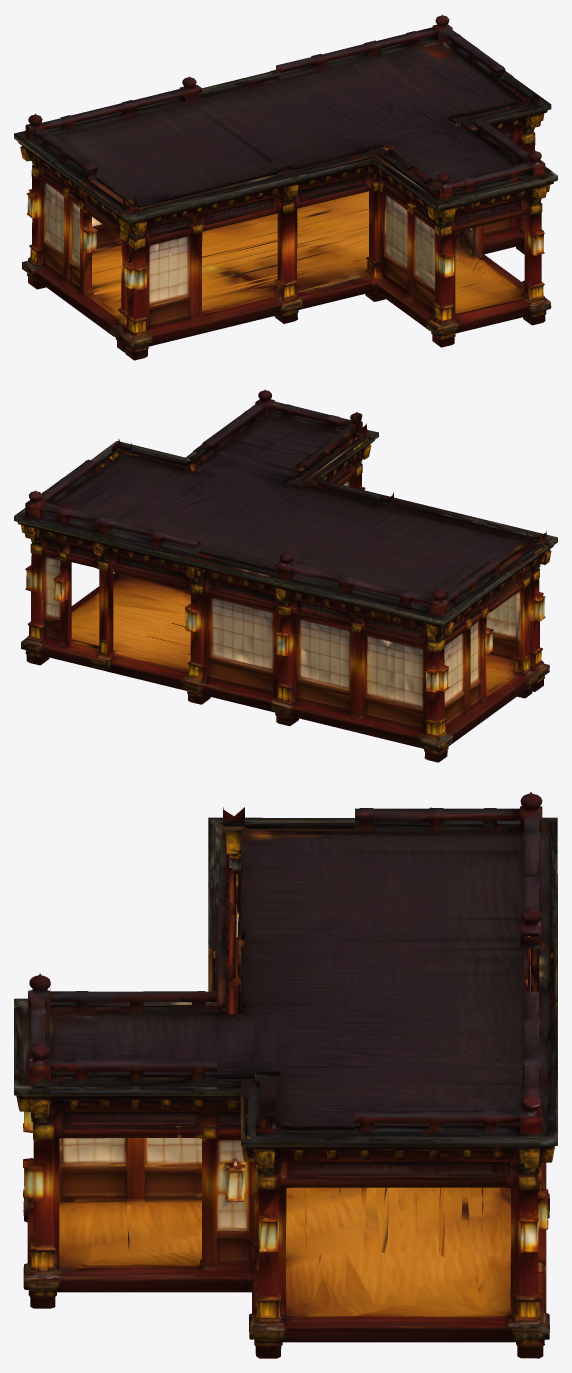
Rendered from HallWay3Way_LOD0.fbx.
3 views of the same model, one above another, from view 1: azimuth 30°, elevation 25°; view 2: azimuth 150°, elevation 25°; view 3: azimuth 270°, elevation 25° (orthographic). The views are drawn at different scales.
Visible parts, largest first — view 1: HallWay3Way_LOD0; view 2: HallWay3Way_LOD0; view 3: HallWay3Way_LOD0.
Boxes of the visible parts, left/top/right/bottom form: HallWay3Way_LOD0: left=14, top=14, right=557, bottom=360; HallWay3Way_LOD0: left=14, top=389, right=557, bottom=762; HallWay3Way_LOD0: left=14, top=792, right=557, bottom=1358.
Size of the model in its own units: 12.08 by 4.62 by 8.65.
Materials: 1 (1 with a texture image).
